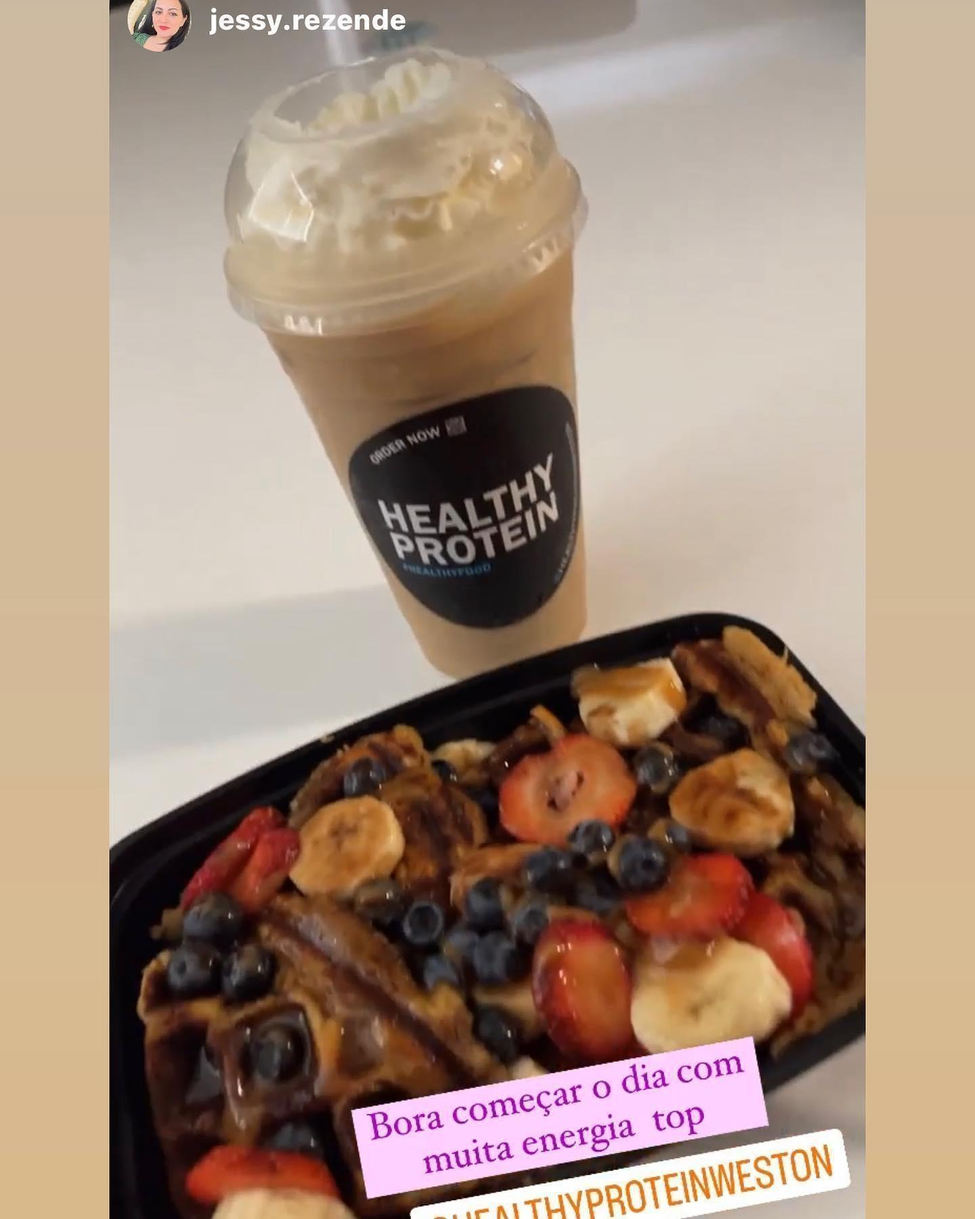cup-disposable: (217, 41, 601, 677)
